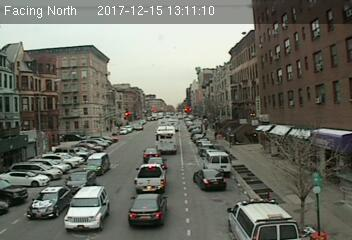bus: (155, 125, 177, 156)
car: (64, 187, 110, 231), (25, 185, 71, 219), (128, 195, 169, 226), (193, 167, 228, 192), (135, 164, 166, 192), (65, 169, 96, 191), (85, 153, 110, 173), (142, 147, 159, 160)
police: (224, 196, 301, 240)
truck: (202, 150, 231, 174)
